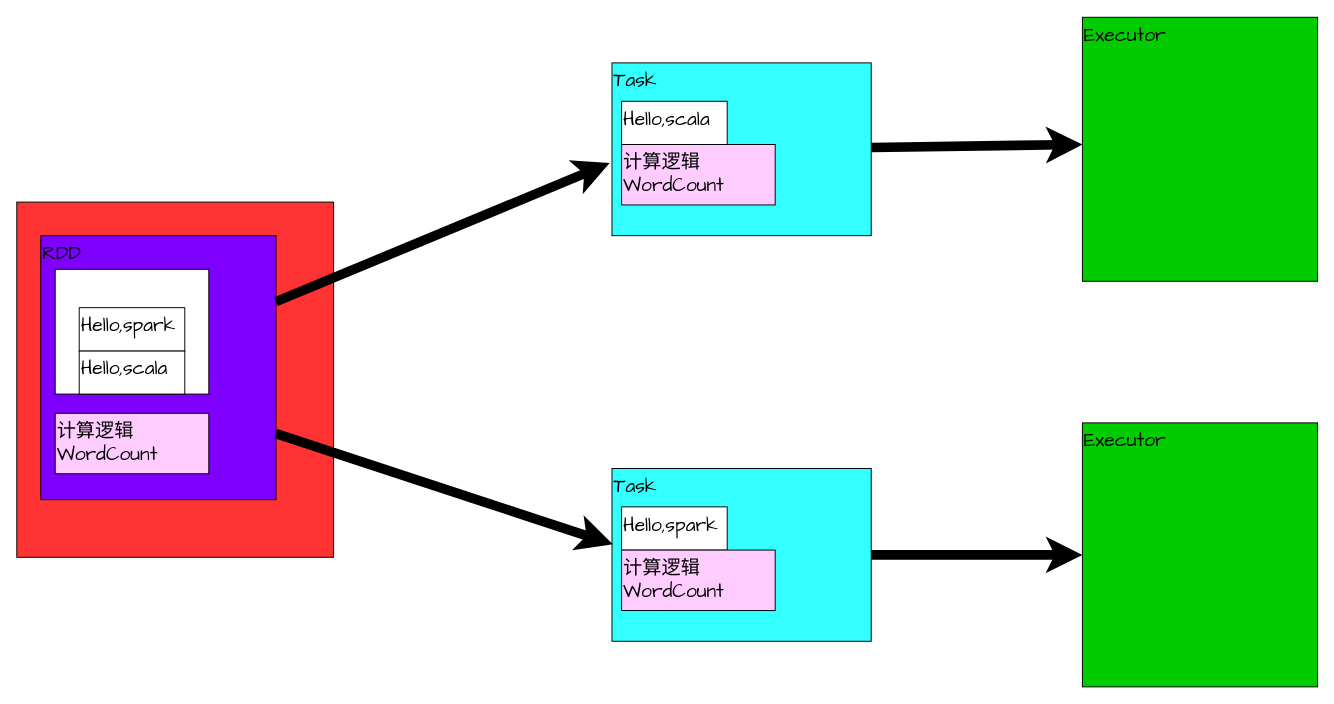
Some shapes in this 1334 by 704 pixel diagram are drawn without their labels. Each missing label, with the box of its shape:
Driver: (16, 201, 334, 557)
输入: (54, 268, 209, 394)
